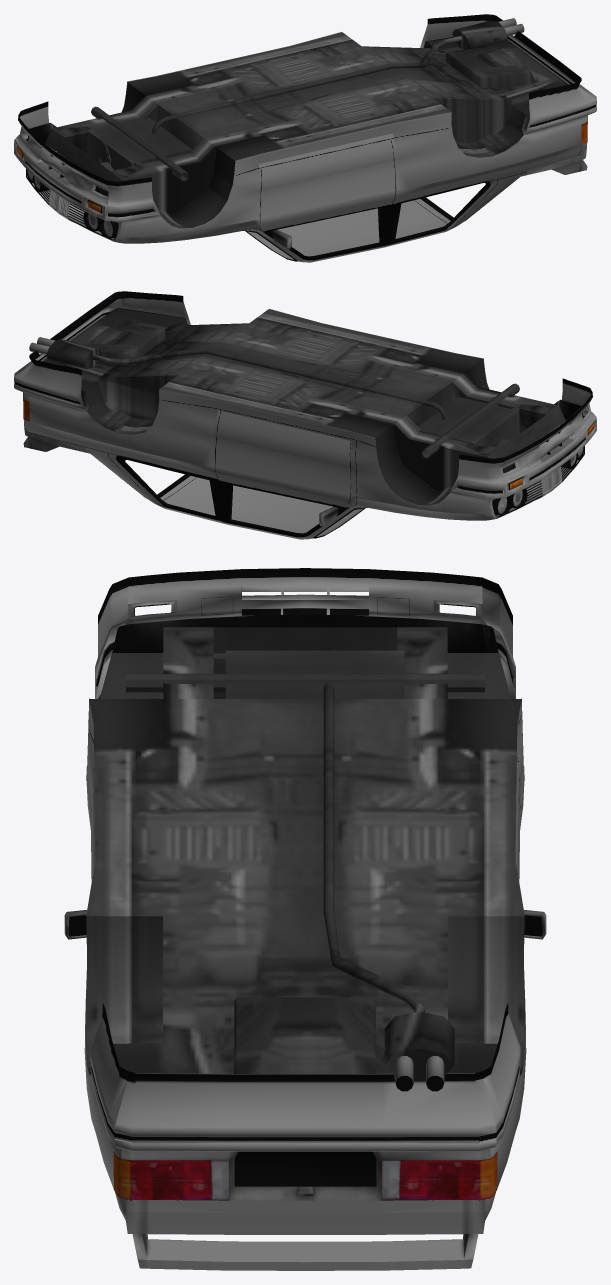
The model's file is M3_body.obj.
The picture shows the model from 3 angles, top to bottom: view 1: azimuth 30°, elevation 25°; view 2: azimuth 150°, elevation 25°; view 3: azimuth 270°, elevation 25°; orthographic projection. The views are drawn at different scales.
Size of the model in its own units: 4.34 by 1.35 by 1.8.
Materials: 1 (1 with a texture image).
